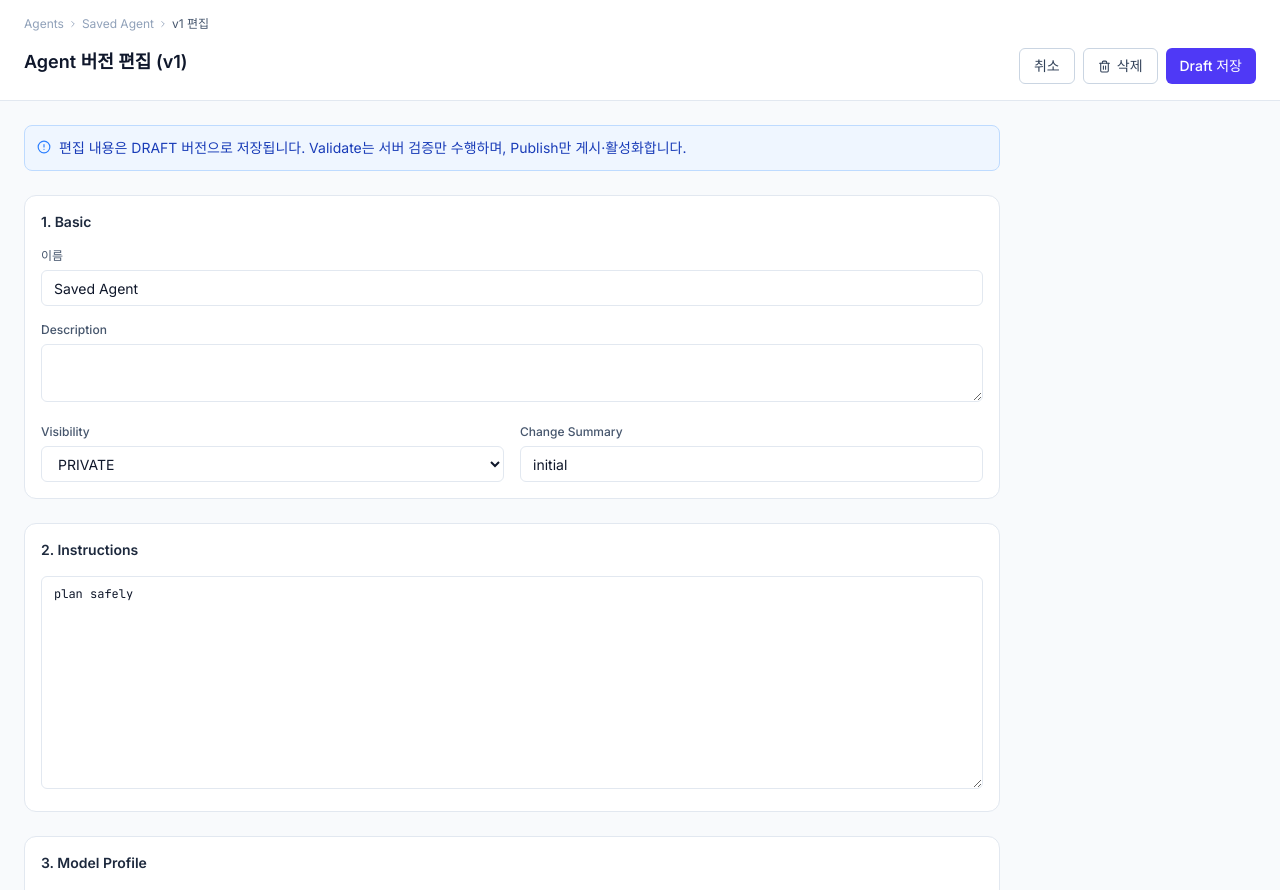
Test: AgentEdit persist / validate safety › does not validate a previous version while the form is dirty
Check: the field showing "Saved Agent" below "이름" is shown, box [41,270,983,306]
Replace the text in the text box showing "plan safely" below "2. Instructions" with "changed instructions": (512, 682) [41,576,983,789]
(page scrolled)
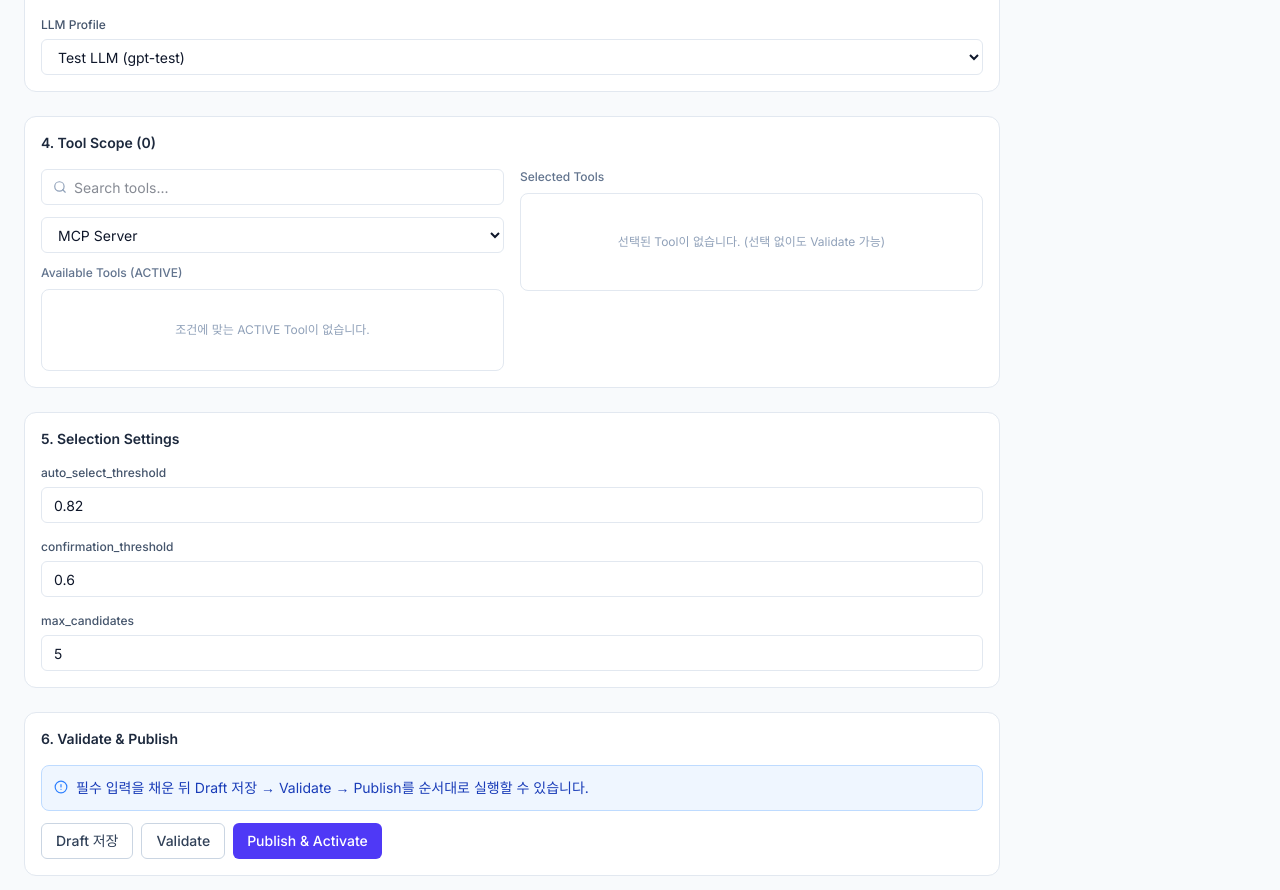
Click the button "Validate": (183, 841) [142,823,225,859]
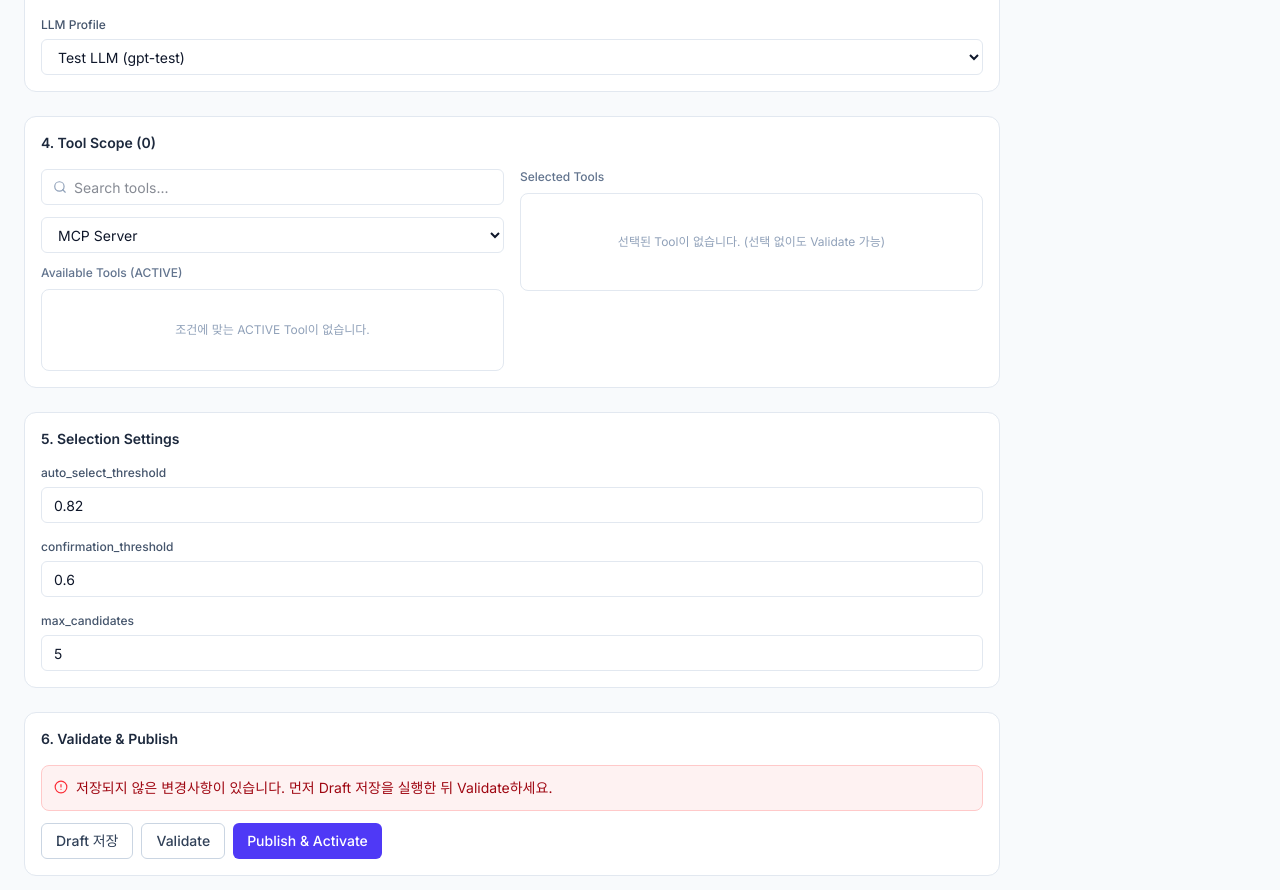
Check: the text "저장되지 않은 변경사항이 있습니다. 먼저 Draft 저장을 실행한 뒤 Validate하세요." is shown, box [76,778,552,798]
